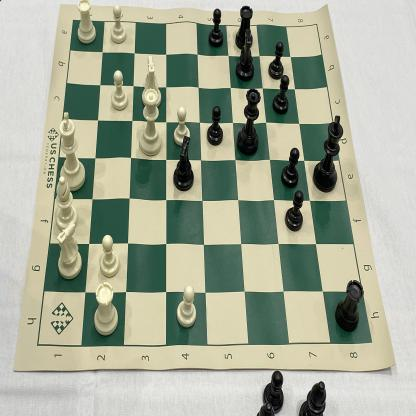black-king: (308, 111, 345, 194)
black-knight: (171, 135, 197, 194), (236, 27, 255, 81)
black-pawn: (284, 189, 305, 233), (280, 146, 301, 189), (204, 104, 224, 146), (267, 37, 286, 81), (273, 73, 291, 117), (207, 6, 225, 49)
black-queen: (234, 87, 262, 158)
black-rook: (335, 275, 365, 332), (234, 4, 256, 50)
white-bishop: (92, 281, 120, 339), (52, 175, 80, 232)
white-king: (56, 110, 87, 194)
white-knight: (54, 220, 84, 279), (140, 52, 162, 108)
white-pawn: (95, 232, 123, 280), (172, 281, 199, 329), (109, 67, 130, 112), (107, 2, 128, 45), (172, 105, 191, 148)
white-queen: (134, 88, 165, 158)
white-rook: (72, 0, 98, 46)
